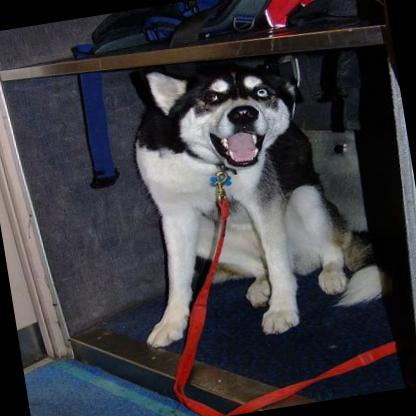Eskimo_dog: (101, 40, 384, 354)
